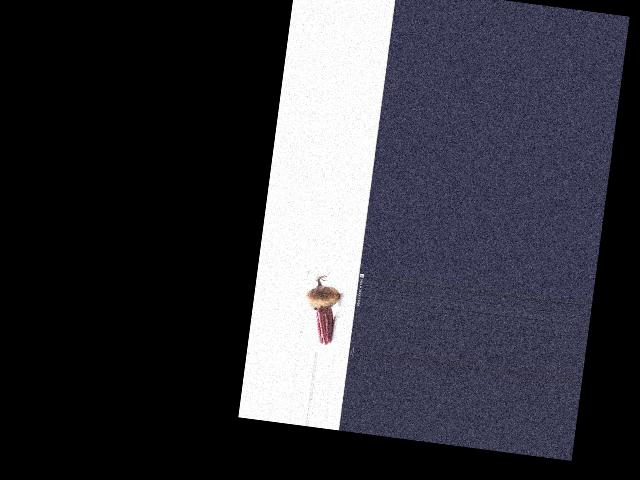beet: (300, 269, 342, 345)
